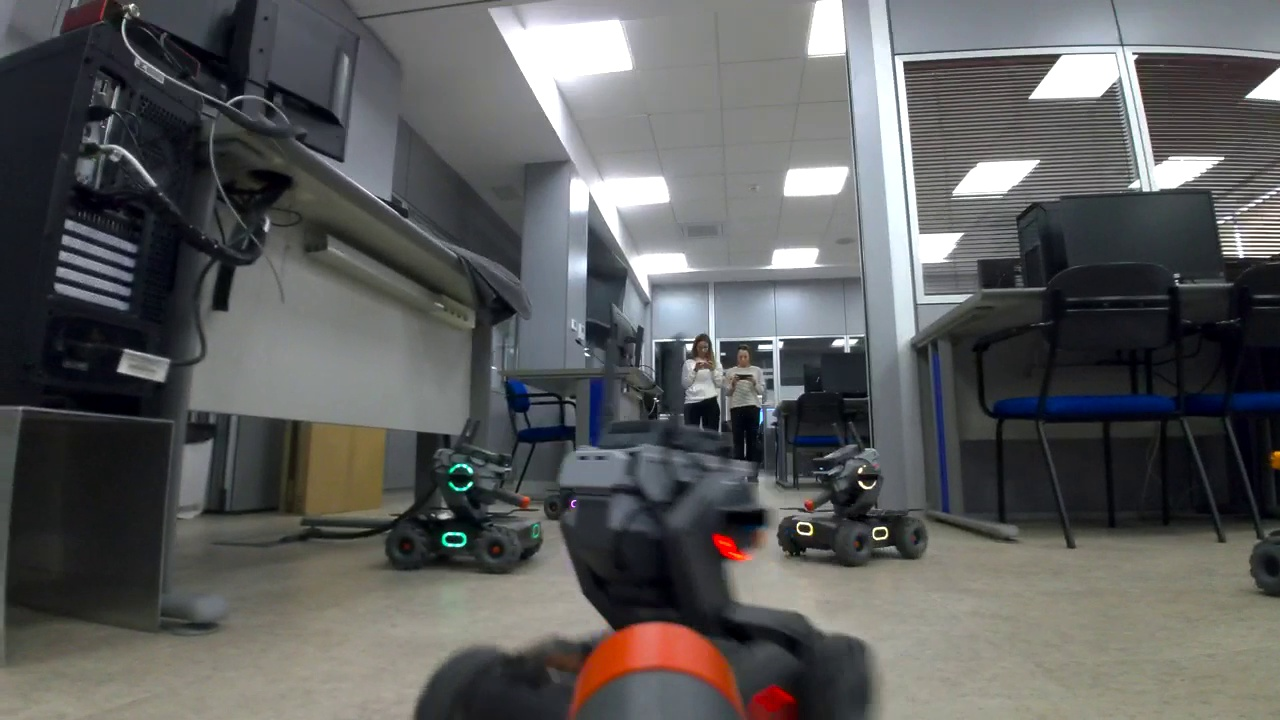robot: (406, 430, 890, 714), (382, 441, 546, 577), (775, 443, 927, 571)
